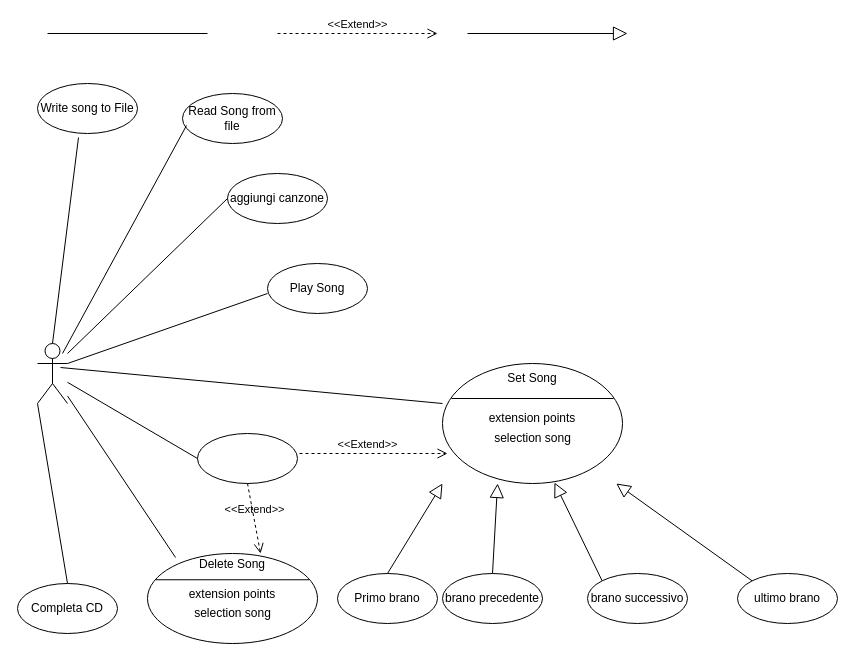
The diagram is 855 pixels wide and 661 high, and some of its shapes have lost their labels. The shapes that lost their labels are listed below. From the top down, each one's centre as x and y in pixels, then its label:
(52,373): Actor
(247,458): Cerca canzone
